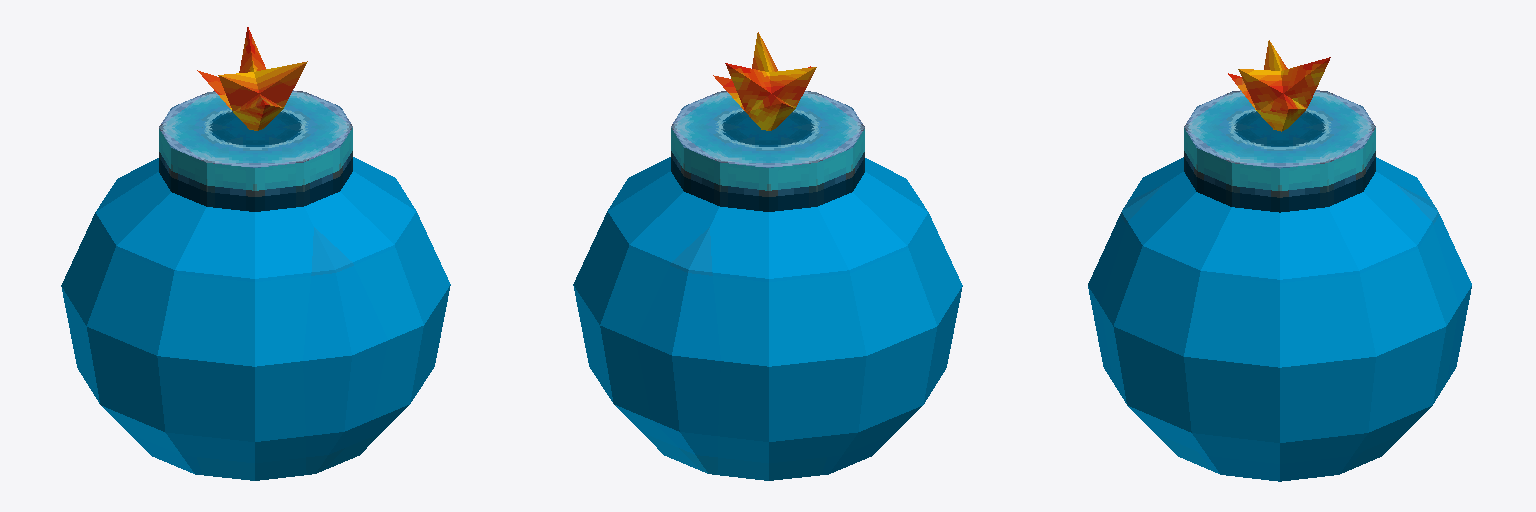
3 renders of one model, left to right at view 1: azimuth 30°, elevation 25°; view 2: azimuth 150°, elevation 25°; view 3: azimuth 270°, elevation 25°, orthographic.
Visible parts, largest first — view 1: Mesh.104_DrawCall_110; view 2: Mesh.104_DrawCall_110; view 3: Mesh.104_DrawCall_110.
Part boxes in pixels (left/top/right/bottom): Mesh.104_DrawCall_110: left=61, top=27, right=450, bottom=480; Mesh.104_DrawCall_110: left=573, top=32, right=962, bottom=480; Mesh.104_DrawCall_110: left=1088, top=40, right=1471, bottom=481.
Size of the model in its own units: 10.31 by 12.07 by 10.14.
1 materials, 1 textured.